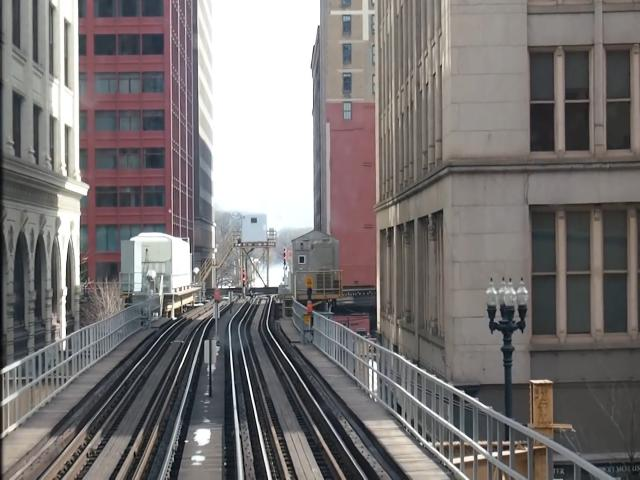signal light: (243, 269, 248, 287), (284, 249, 288, 271)
